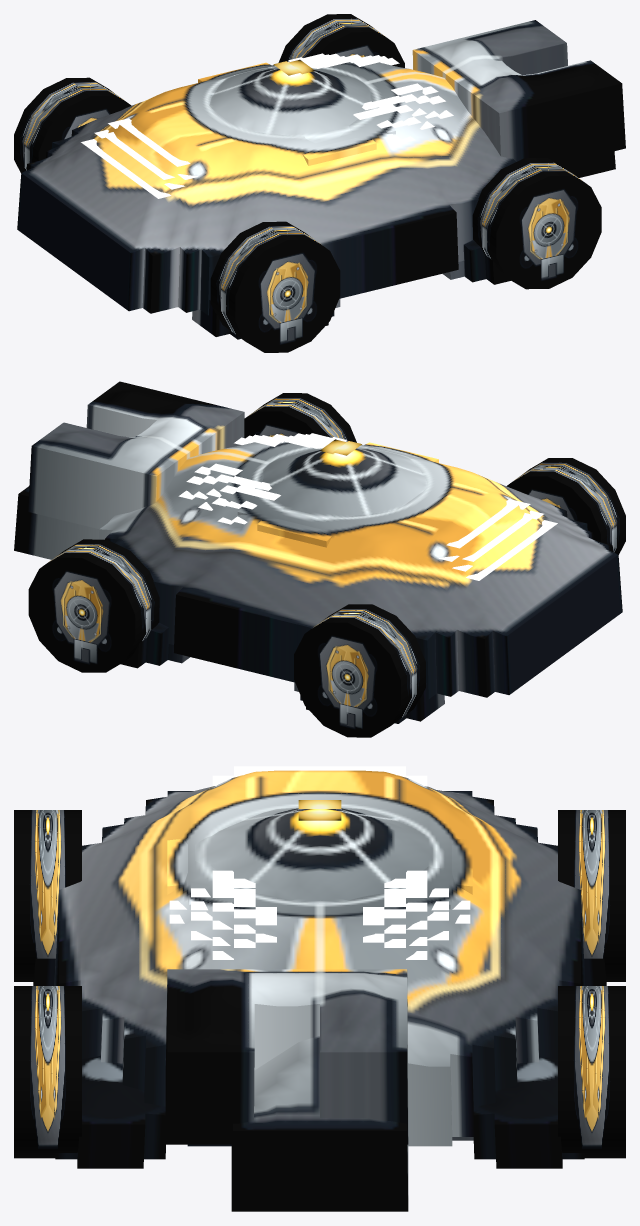
The picture shows the model from 3 angles, top to bottom: view 1: azimuth 30°, elevation 25°; view 2: azimuth 150°, elevation 25°; view 3: azimuth 270°, elevation 25°; orthographic projection. The views are drawn at different scales.
Visible parts, largest first — view 1: chassis-heightfield, winch-boom-relief, wheel-right-0, wheel-right-1, wheel-left-0, semantic-team-surfaces, wheel-left-1, underbody-layered-relief; view 2: chassis-heightfield, winch-boom-relief, wheel-left-0, wheel-left-1, wheel-right-0, semantic-team-surfaces, wheel-right-1, underbody-layered-relief; view 3: chassis-heightfield, winch-boom-relief, underbody-layered-relief, wheel-left-1, wheel-right-1, semantic-team-surfaces, wheel-left-0, wheel-right-0, authored-emissive-surfaces.
Part boxes in pixels (x1=…): chassis-heightfield: x1=17, y1=62, x2=615, y2=315; winch-boom-relief: x1=198, y1=20, x2=625, y2=165; wheel-right-0: x1=210, y1=221, x2=340, y2=352; wheel-right-1: x1=472, y1=158, x2=601, y2=289; wheel-left-0: x1=14, y1=77, x2=131, y2=173; semantic-team-surfaces: x1=81, y1=53, x2=453, y2=198; wheel-left-1: x1=278, y1=14, x2=404, y2=67; underbody-layered-relief: x1=192, y1=240, x2=510, y2=339; chassis-heightfield: x1=14, y1=441, x2=622, y2=699; winch-boom-relief: x1=28, y1=381, x2=438, y2=547; wheel-left-0: x1=294, y1=604, x2=425, y2=737; wheel-left-1: x1=28, y1=539, x2=159, y2=672; wheel-right-0: x1=506, y1=458, x2=625, y2=554; semantic-team-surfaces: x1=178, y1=433, x2=557, y2=580; wheel-right-1: x1=244, y1=393, x2=356, y2=442; underbody-layered-relief: x1=120, y1=622, x2=444, y2=723; chassis-heightfield: x1=55, y1=770, x2=584, y2=1211; winch-boom-relief: x1=165, y1=808, x2=472, y2=1144; underbody-layered-relief: x1=33, y1=958, x2=606, y2=1168; wheel-left-1: x1=558, y1=986, x2=625, y2=1158; wheel-right-1: x1=14, y1=986, x2=81, y2=1158; semantic-team-surfaces: x1=169, y1=766, x2=470, y2=959; wheel-left-0: x1=558, y1=810, x2=625, y2=981; wheel-right-0: x1=14, y1=810, x2=81, y2=981; authored-emissive-surfaces: x1=298, y1=800, x2=341, y2=820.
Size of the model in its own units: 0.9 by 0.297 by 0.675.
5 materials, 4 textured.
